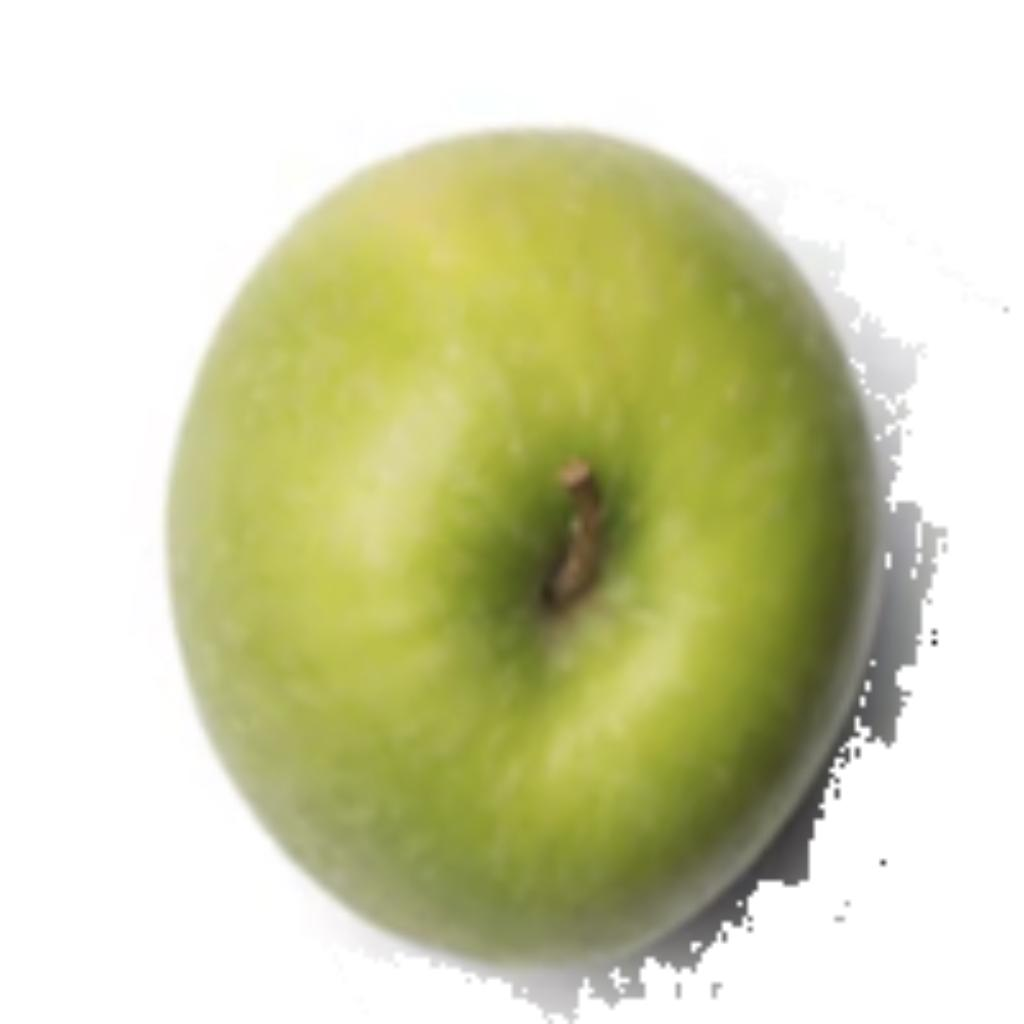apple: (154, 118, 947, 1019)
